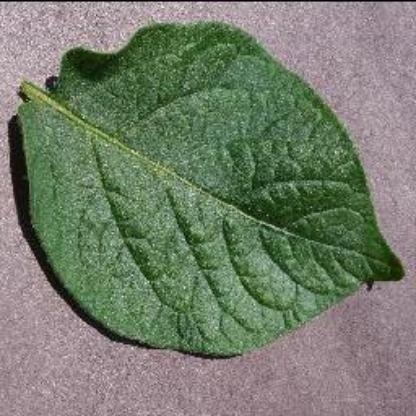Healthy-plant: (11, 18, 406, 360)
